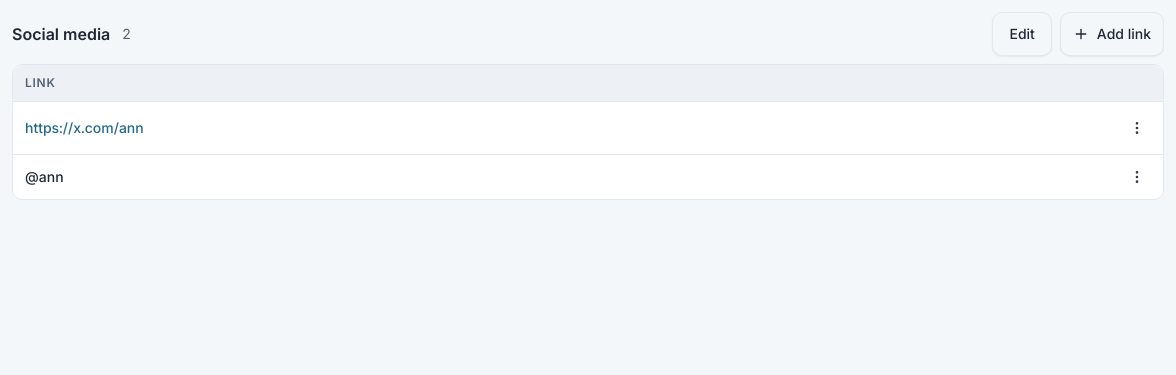
Scenario: SocialSection: read-view entry points › the kebab's Remove opens edit with that row struck through and focus on its Restore
The width and height of the screenshot is (1176, 375).
Press Enter in the button named "More actions for https://x.com/ann", box [1115, 106, 1159, 150]
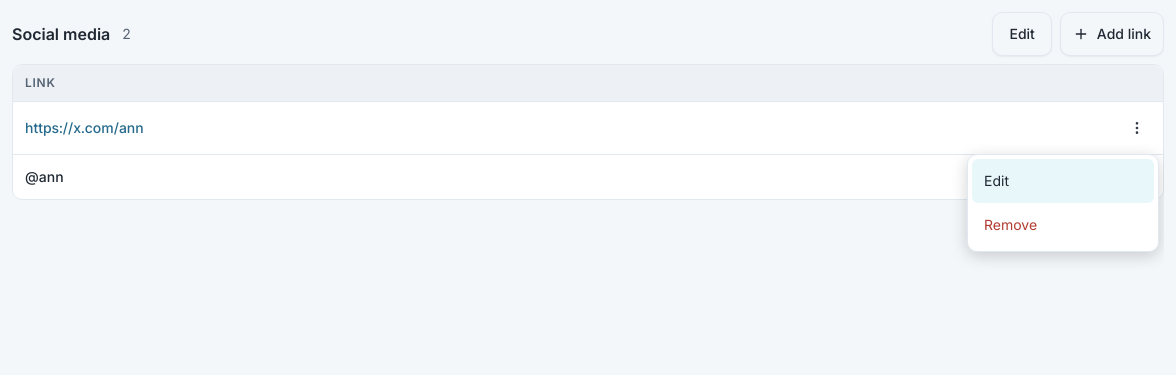
Click the menu item "Remove".
click(1011, 224)  # box [984, 216, 1037, 233]
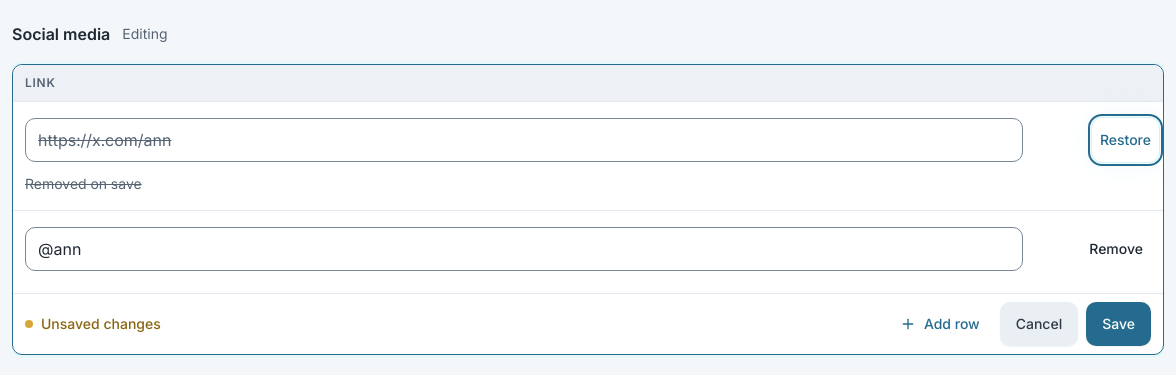
Result: the text "Unsaved changes" is shown at [25, 314, 161, 334]
